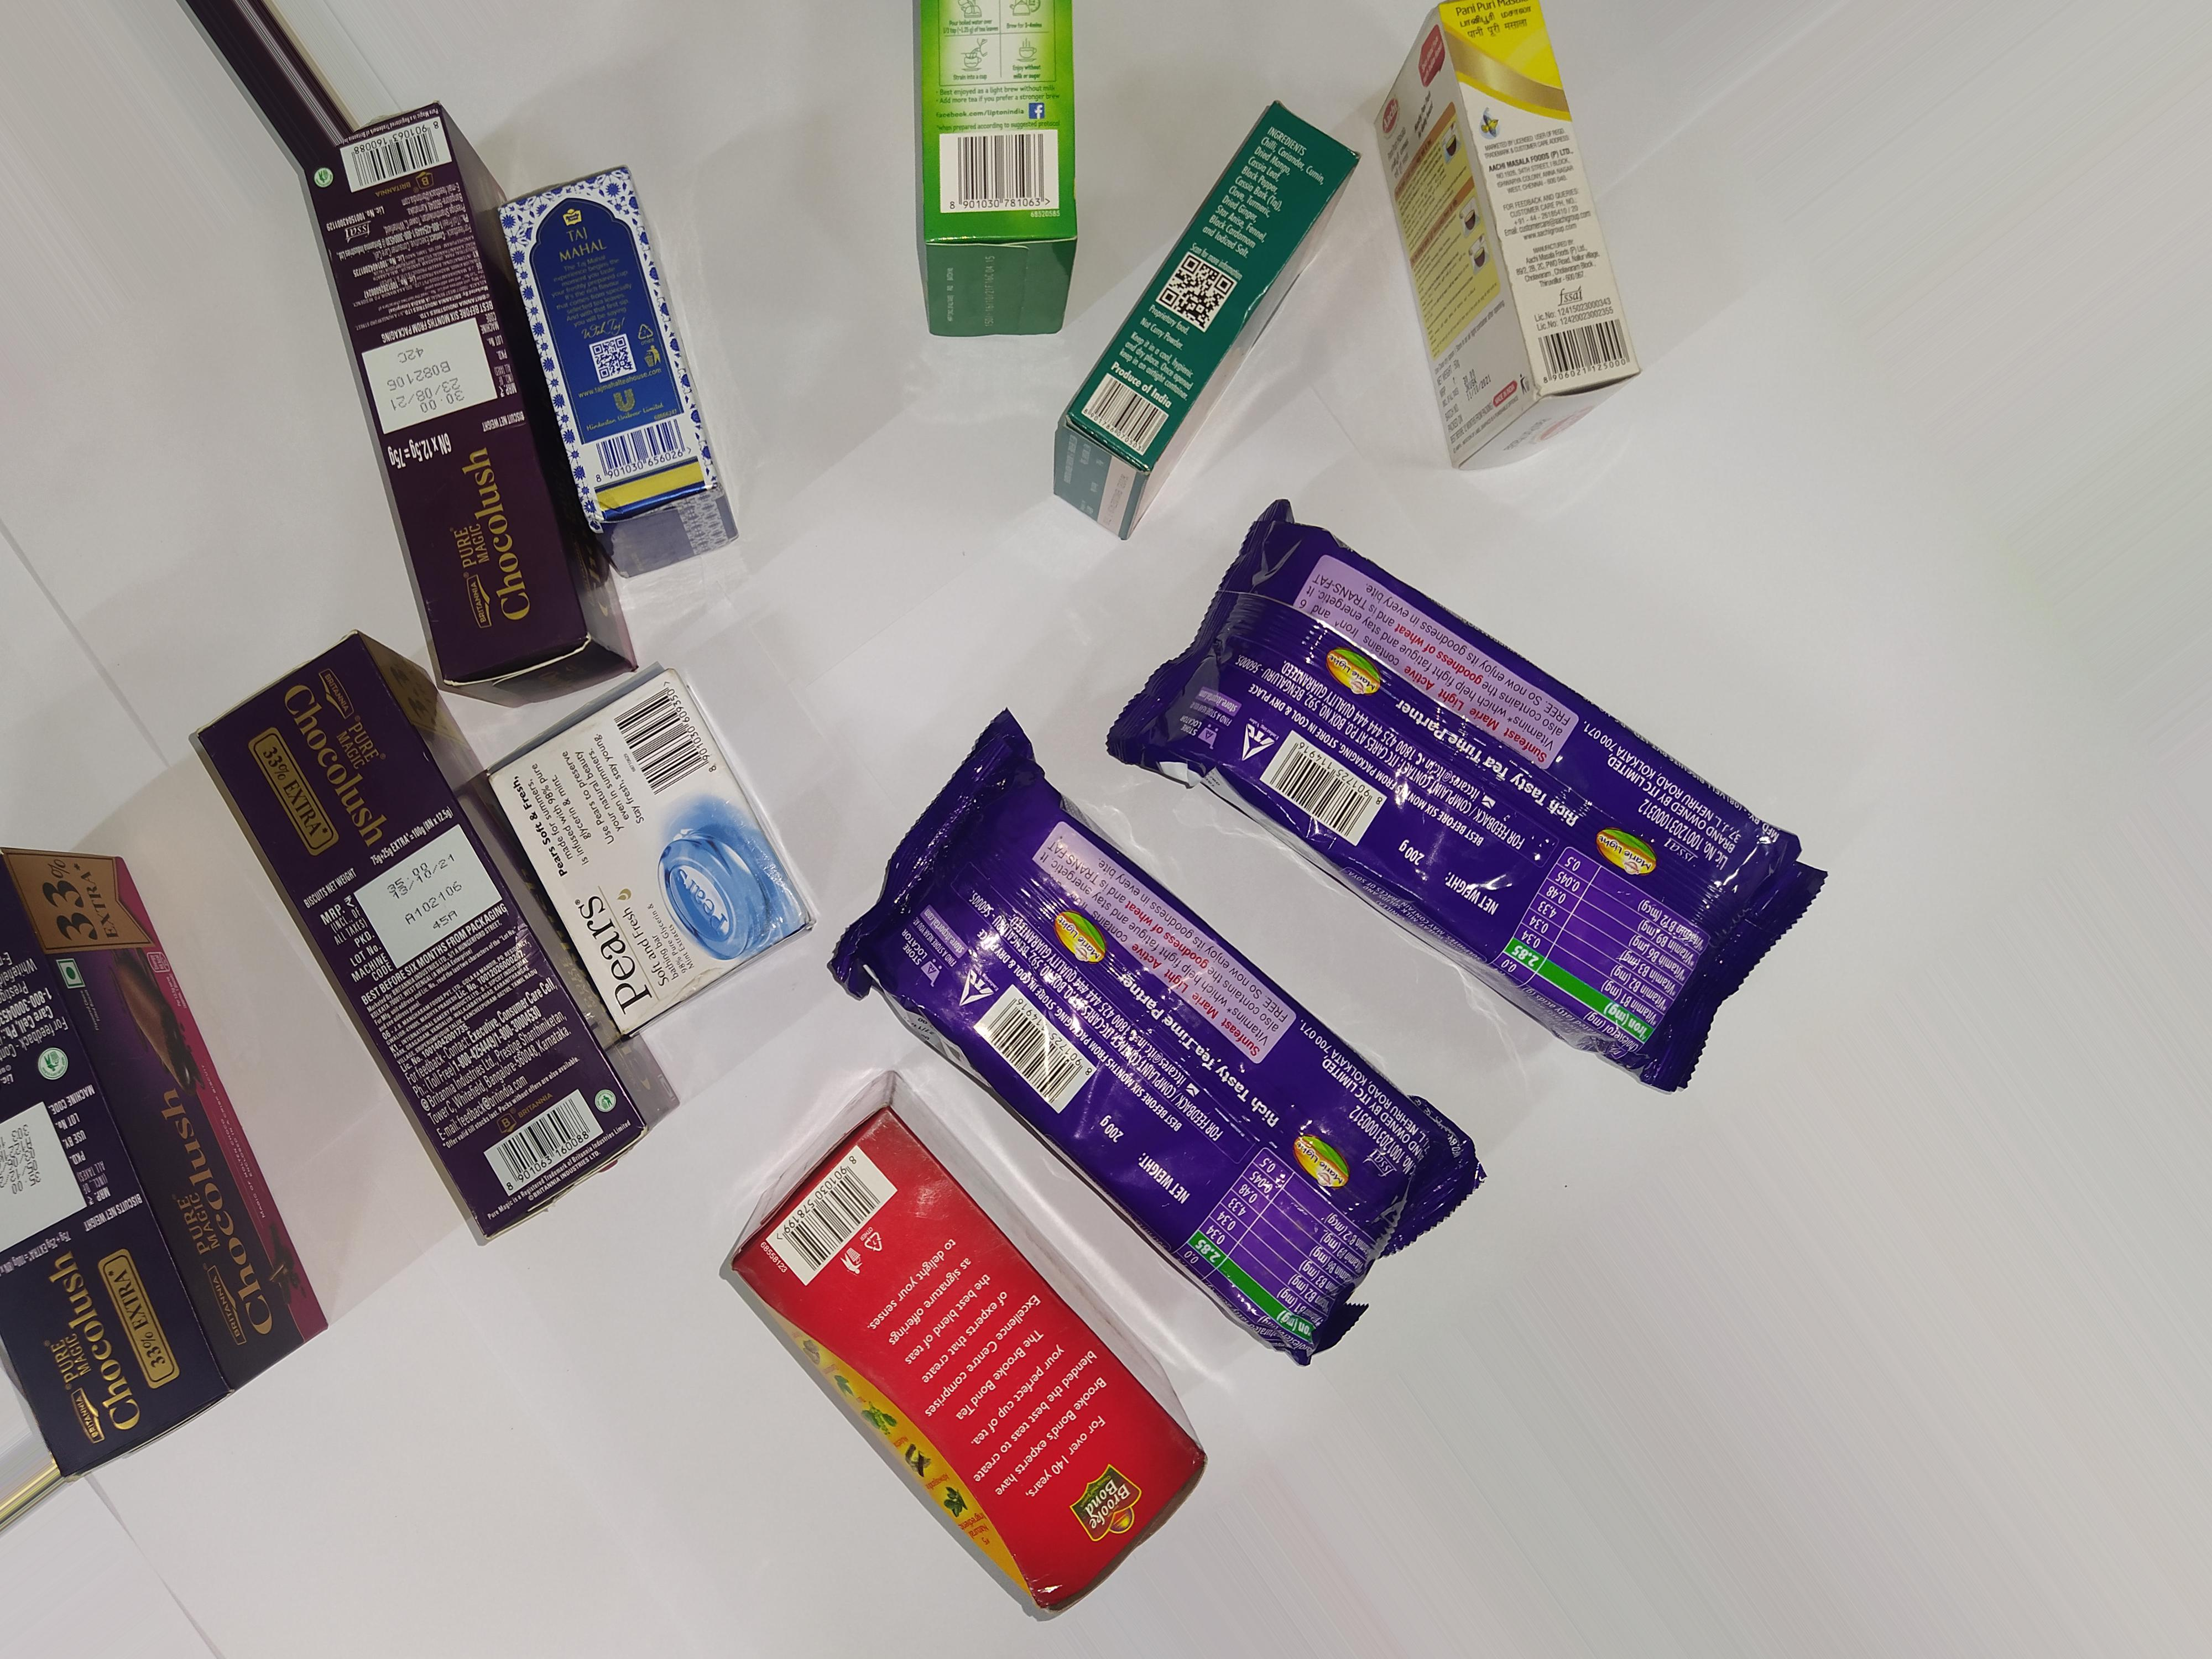Bar_code: (763, 1129, 916, 1305), (968, 965, 1101, 1127), (477, 1080, 631, 1220), (1254, 728, 1392, 870), (599, 680, 747, 809), (934, 110, 1080, 228), (1068, 362, 1184, 469), (570, 406, 707, 488), (327, 120, 462, 192), (1536, 312, 1653, 390)
Item: (1083, 516, 1947, 1117), (843, 683, 1505, 1392), (221, 660, 698, 1248), (737, 1073, 1228, 1626), (273, 84, 655, 714), (0, 849, 348, 1459), (1362, 19, 1684, 479), (1069, 103, 1385, 516), (460, 674, 843, 993), (507, 152, 779, 591), (880, 0, 1092, 350)
QR_code: (1155, 247, 1245, 342), (583, 340, 641, 380)
